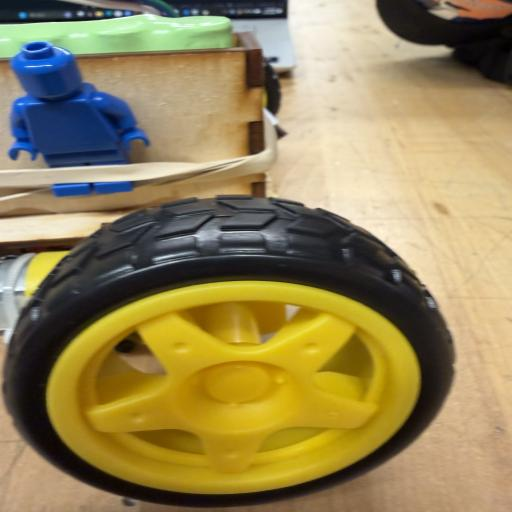Blue-Lego: (8, 41, 149, 168), (51, 181, 133, 197)
